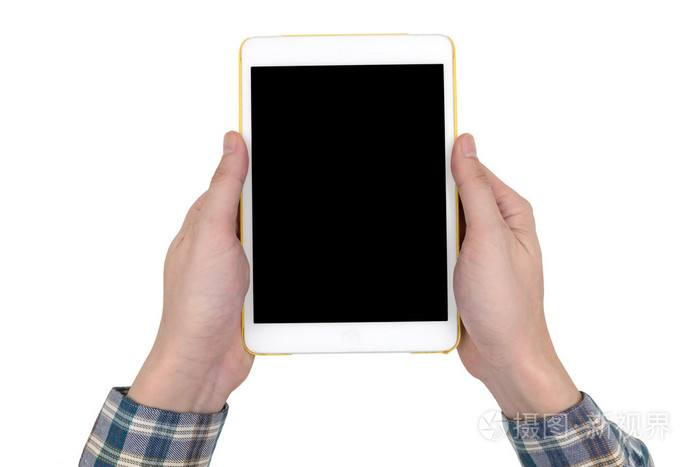pad: (168, 17, 546, 392)
